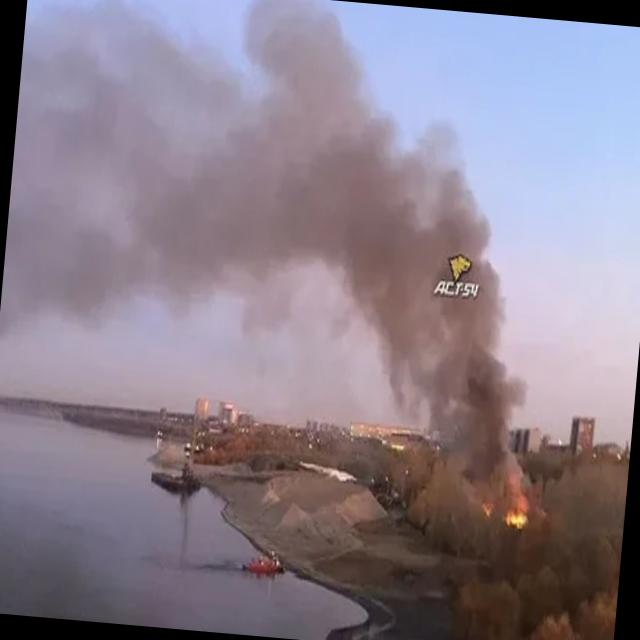Smoke: (206, 0, 576, 524)
